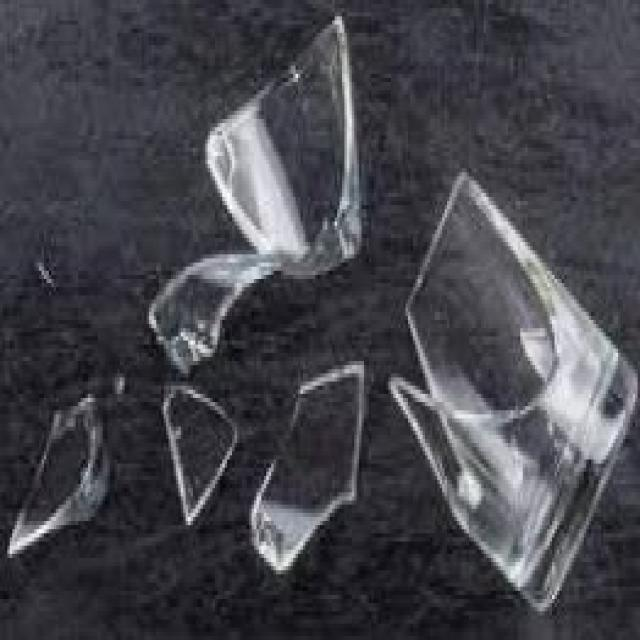electronic: (0, 16, 640, 615)
